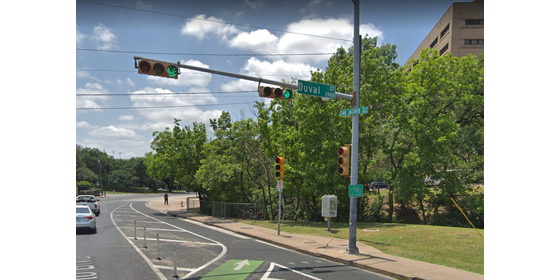street name sign: (296, 76, 342, 100), (336, 105, 374, 117)
